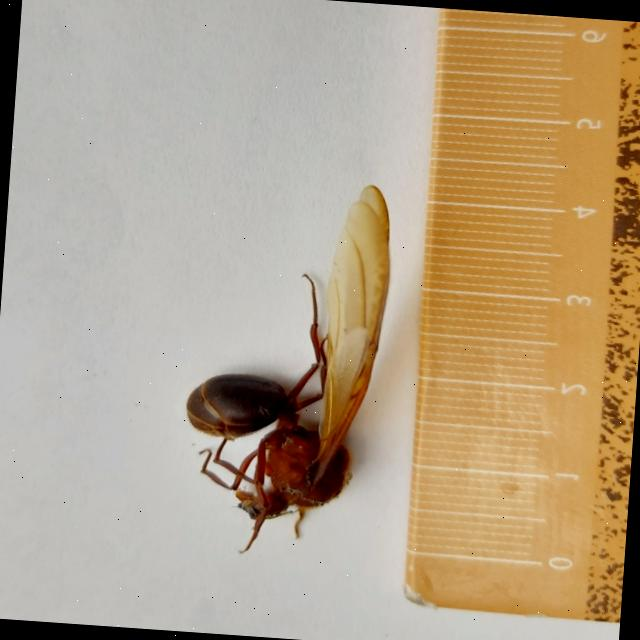Dead-Female-Alate: (173, 172, 397, 563)
